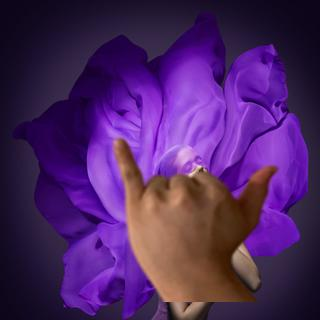HAVE: (99, 131, 287, 291)
